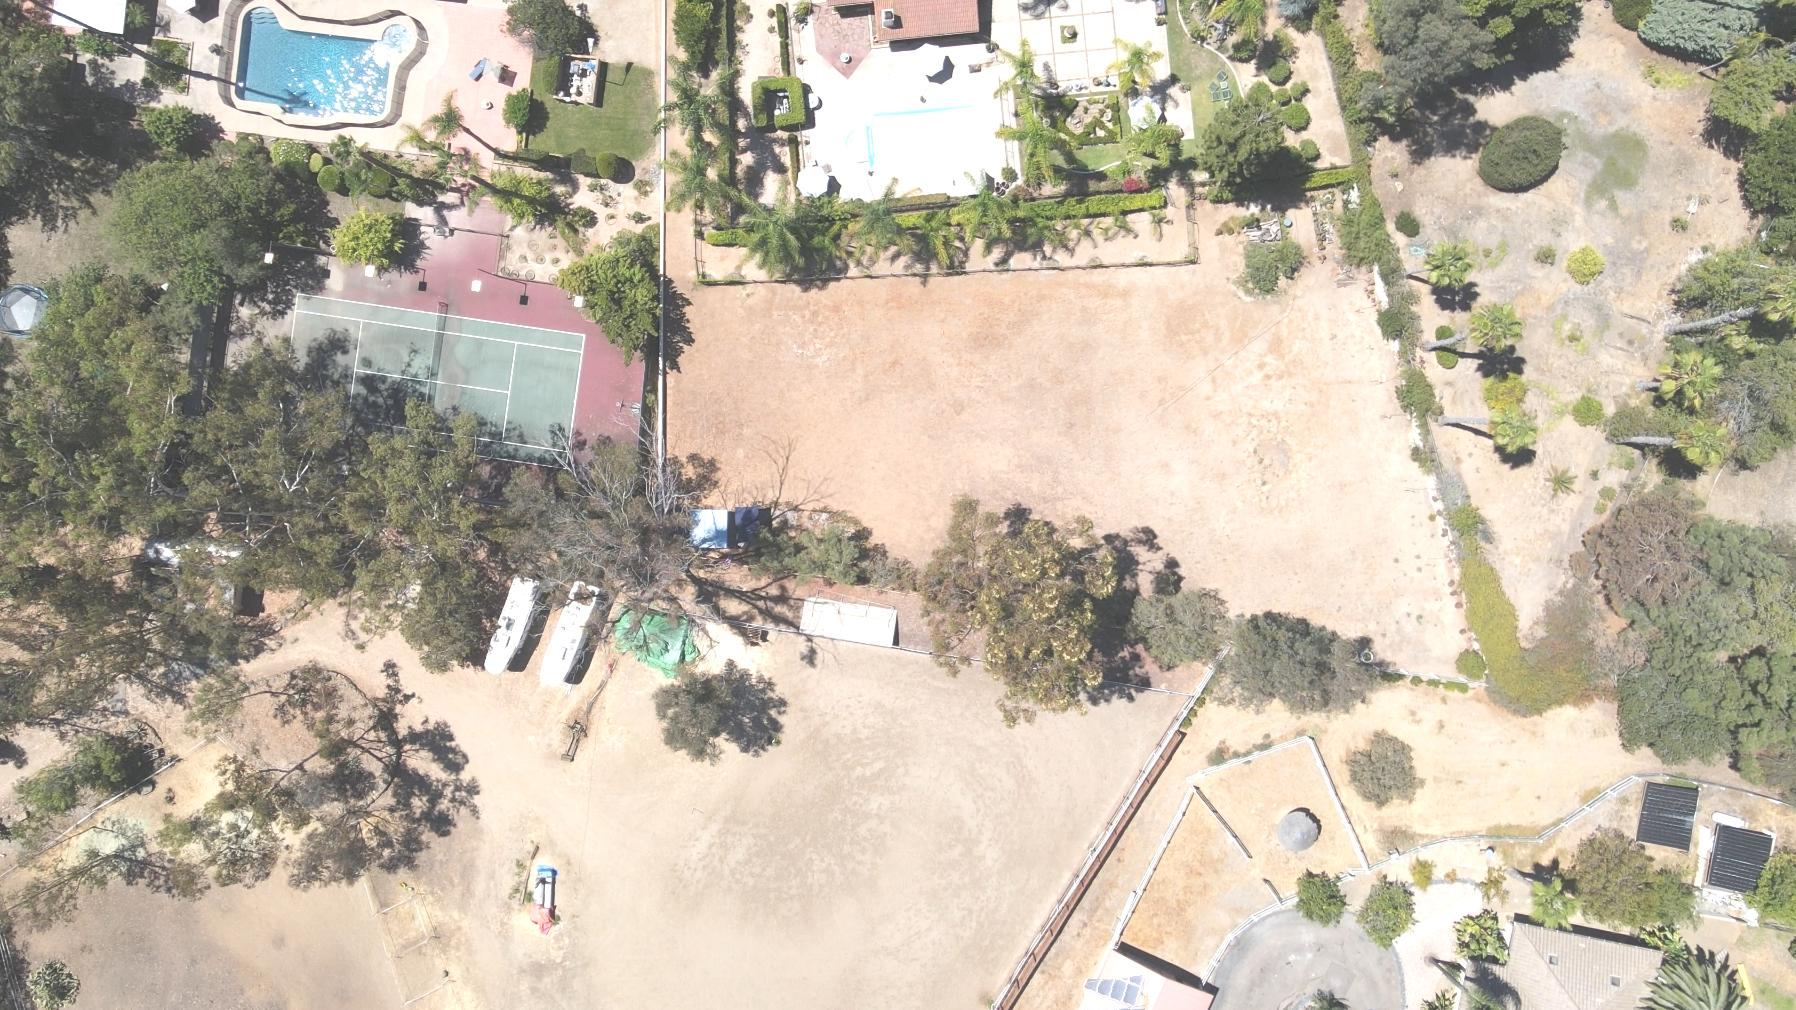solar-panels: (1083, 974, 1146, 1008)
